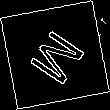M_SE: (21, 22, 89, 88)
